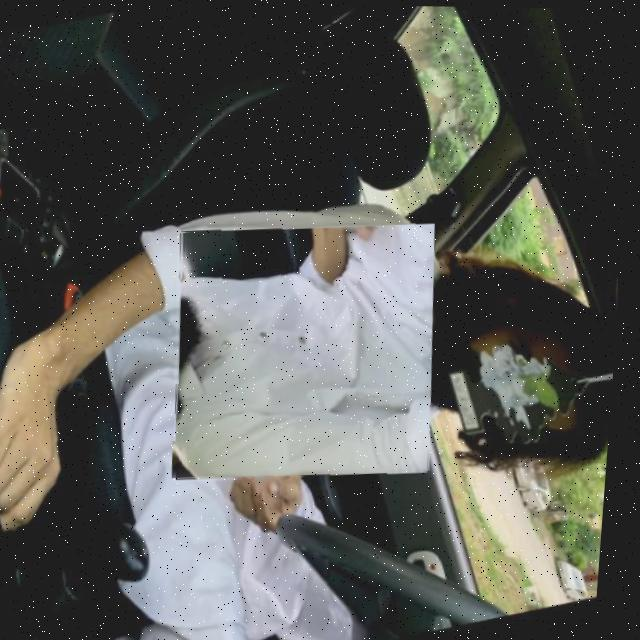no-seatbelt: (166, 218, 450, 484)
